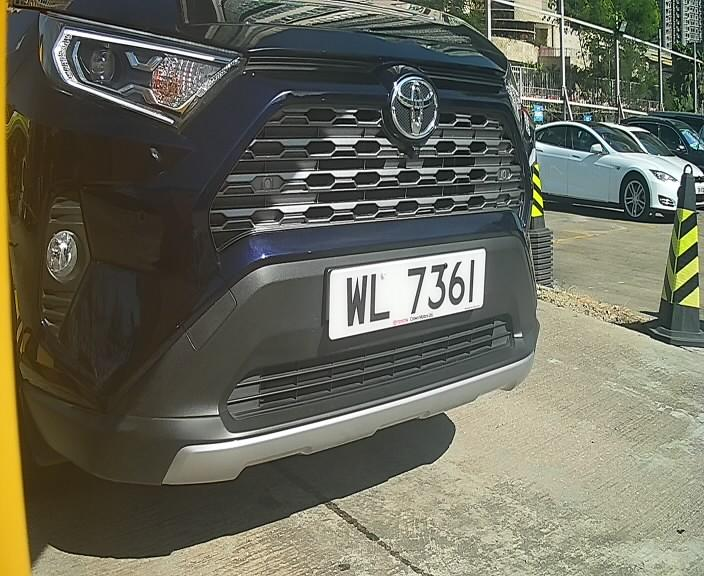Car: (1, 8, 576, 535)
License Plate: (327, 237, 488, 345)
